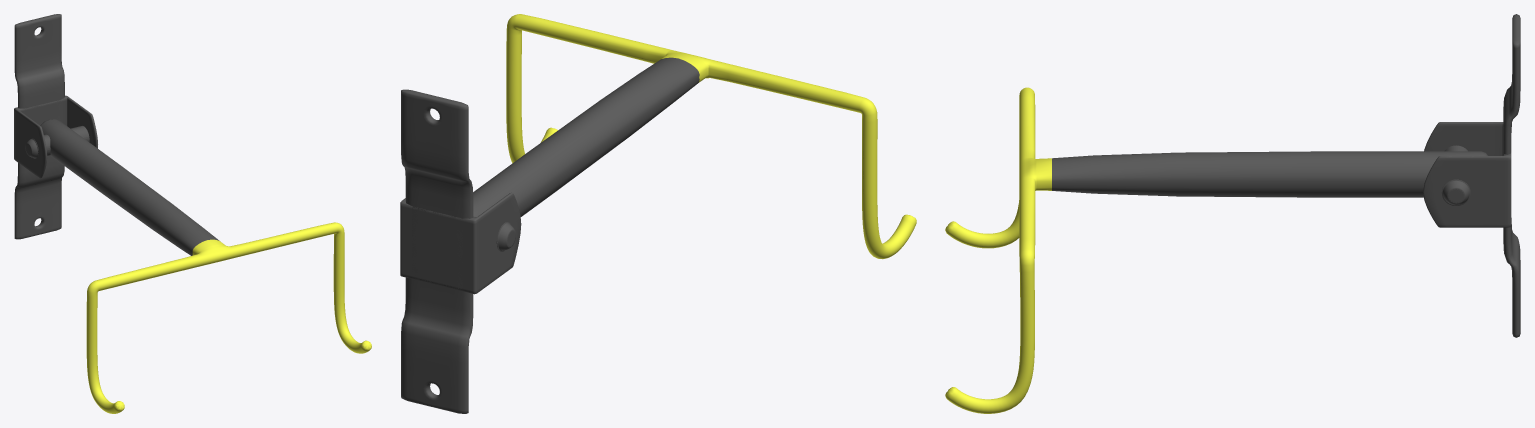
The model's file is hang2.glb.
3 renders of one model, left to right at view 1: azimuth 30°, elevation 25°; view 2: azimuth 150°, elevation 25°; view 3: azimuth 270°, elevation 25°, orthographic. The views are drawn at different scales.
Parts seen in each view (by area): view 1: Hang; view 2: Hang; view 3: Hang.
Part boxes in pixels (x1,y1,x2,y2): Hang: [14, 14, 371, 413]; Hang: [400, 14, 916, 413]; Hang: [945, 14, 1520, 413].
Bounding box in the file's own units: 0.4014 × 0.3298 × 0.5682.
